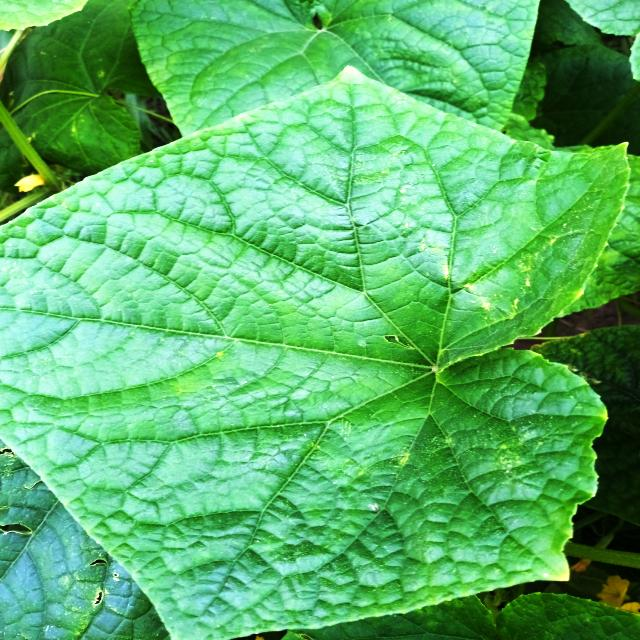Fresh-Leaf: (2, 100, 609, 640)
